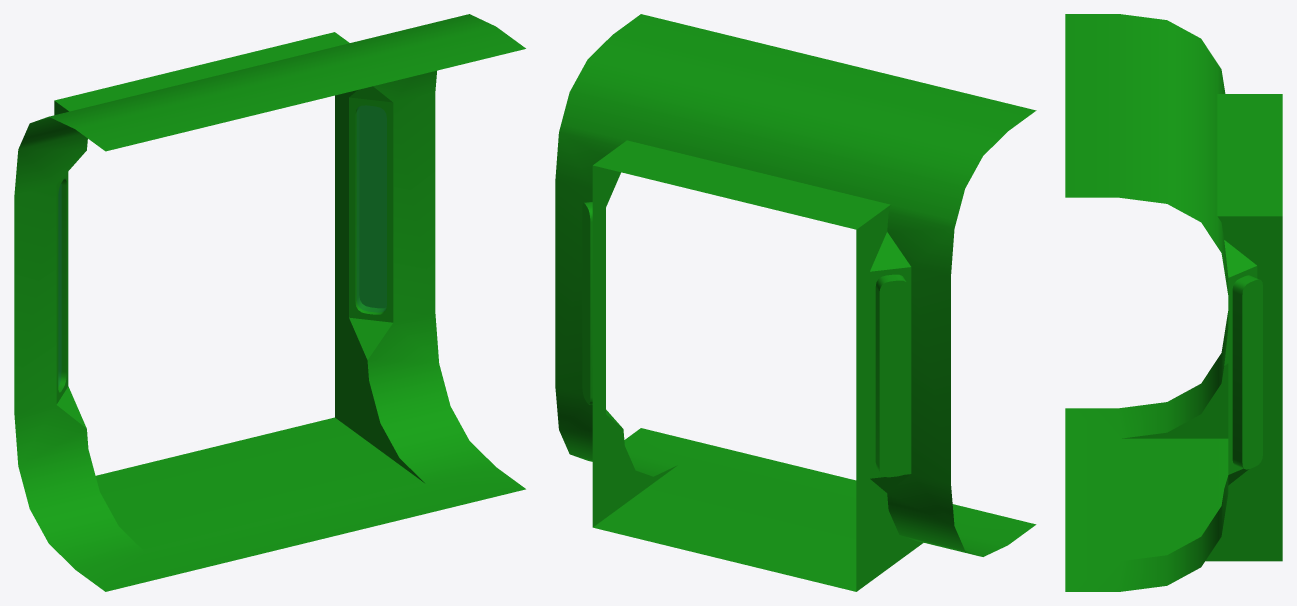
Rendered from Room_Wall_Door_B.FBX.
The picture shows the model from 3 angles, left to right: view 1: azimuth 30°, elevation 25°; view 2: azimuth 150°, elevation 25°; view 3: azimuth 270°, elevation 25°; orthographic projection. The views are drawn at different scales.
Visible parts, largest first — view 1: Room_Wall_Door_B; view 2: Room_Wall_Door_B; view 3: Room_Wall_Door_B.
Boxes of the visible parts, x1,y1,x2,y2 form: Room_Wall_Door_B: [14, 14, 525, 591]; Room_Wall_Door_B: [555, 14, 1036, 591]; Room_Wall_Door_B: [1065, 14, 1282, 591].
Size of the model in its own units: 300 by 300 by 150.
